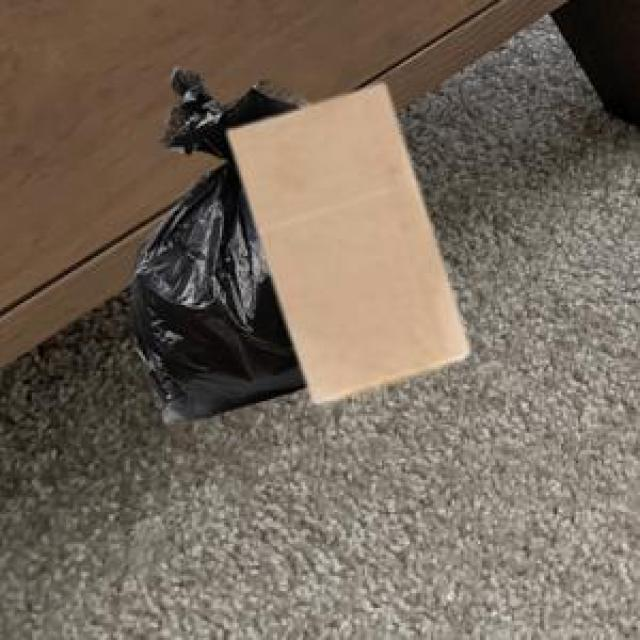miscellaneous trash: (128, 62, 307, 418)
paper: (224, 81, 465, 399)
